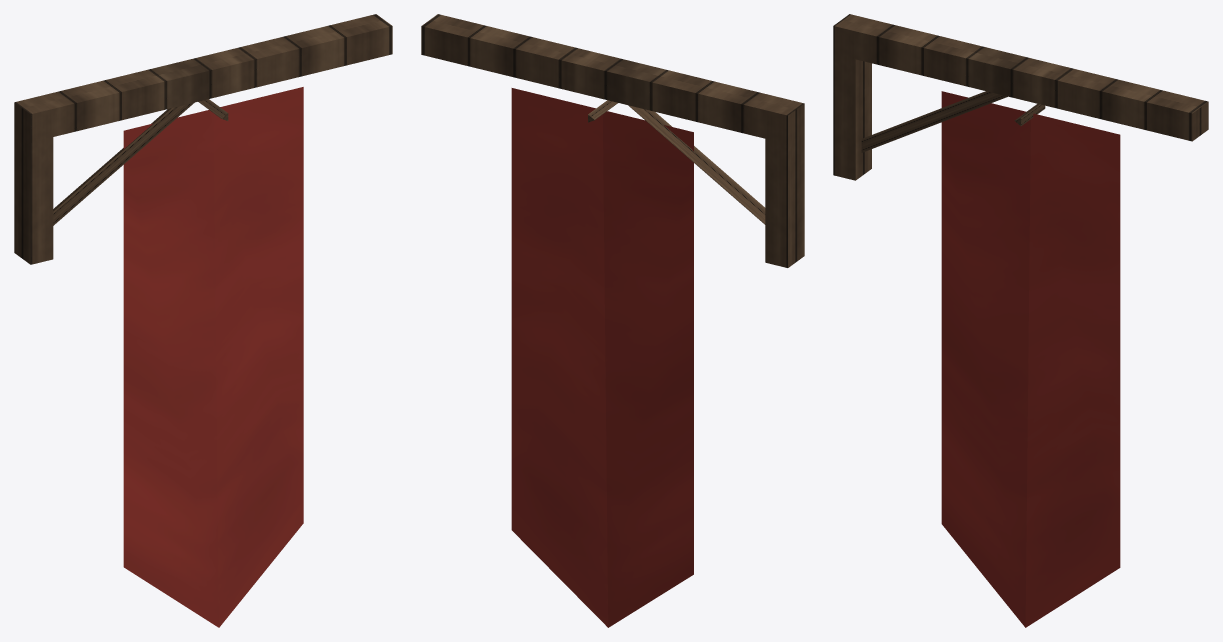
Rendered from Banner_1_LOD2.gltf.
3 views of the same model, side by side, from view 1: azimuth 30°, elevation 25°; view 2: azimuth 150°, elevation 25°; view 3: azimuth 330°, elevation 25° (orthographic). The views are drawn at different scales.
Visible parts, largest first — view 1: Banner_1_LOD2; view 2: Banner_1_LOD2; view 3: Banner_1_LOD2.
Boxes of the visible parts, bbox=[...] form: Banner_1_LOD2: bbox=[14, 14, 392, 627]; Banner_1_LOD2: bbox=[421, 14, 804, 627]; Banner_1_LOD2: bbox=[833, 14, 1208, 627].
Bounding box in the file's own units: 1.61 × 2.39 × 0.19.
Materials: 2 (2 with a texture image).
